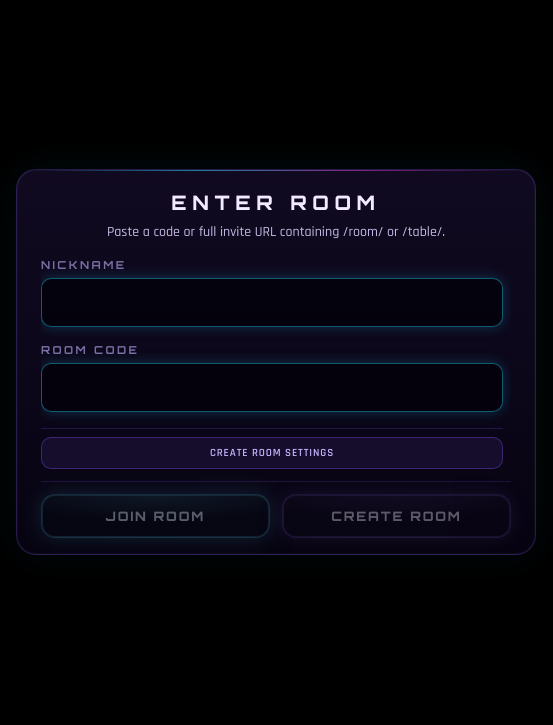
JoinRoomPage backend integration › settings panel renders and keeps action buttons when expanded
Expected: the button "Join Room" is shown, [41,494,270,538]
Expected: the button "Create Room" is shown, [282,494,511,538]
Step 1. Click the button "Create room settings" → (272, 453), box [41,437,503,469]
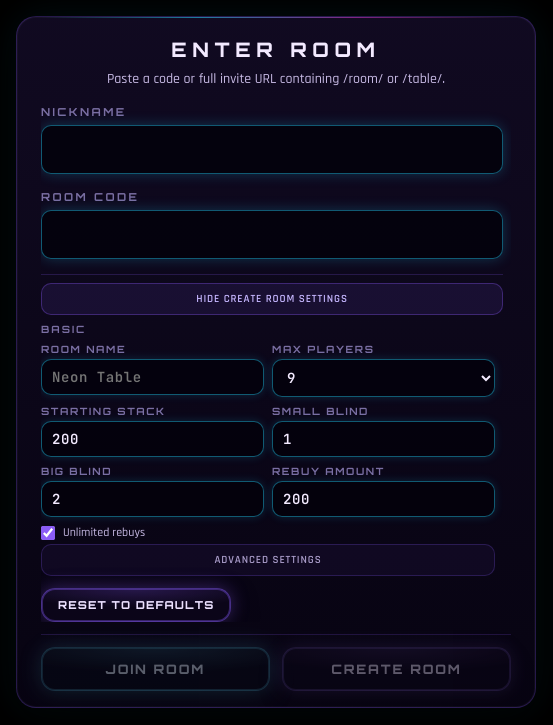
Expected: the button "Hide create room settings" is shown, [41,283,503,315]
Expected: the heading "Basic" is shown, [41,323,86,335]
Expected: the button "Reset to defaults" is shown, [41,588,231,622]
